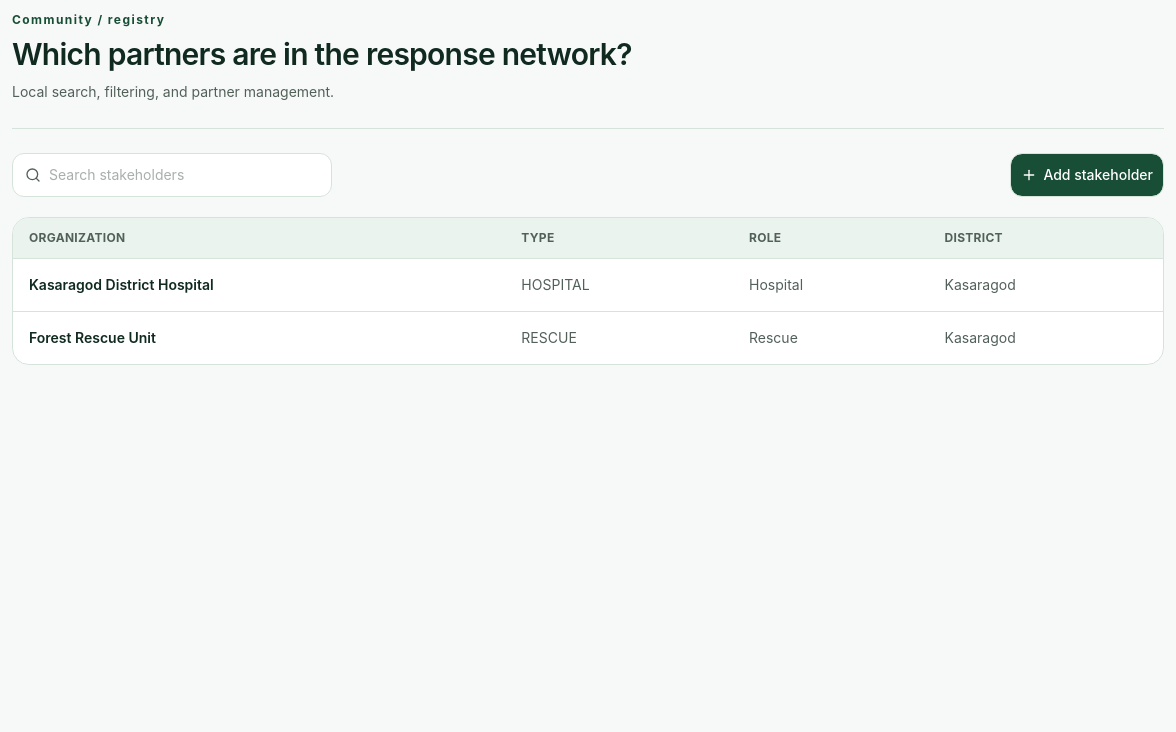
it: StakeholderWorkspace — live registry › adds a stakeholder through the inline form and refreshes the list
This screenshot has width=1176, height=732.
Check: the text "Kasaragod District Hospital" is shown, box [13,258,505,312]
Click the button "Add stakeholder" at [1087, 175], box [1010,153,1164,197]
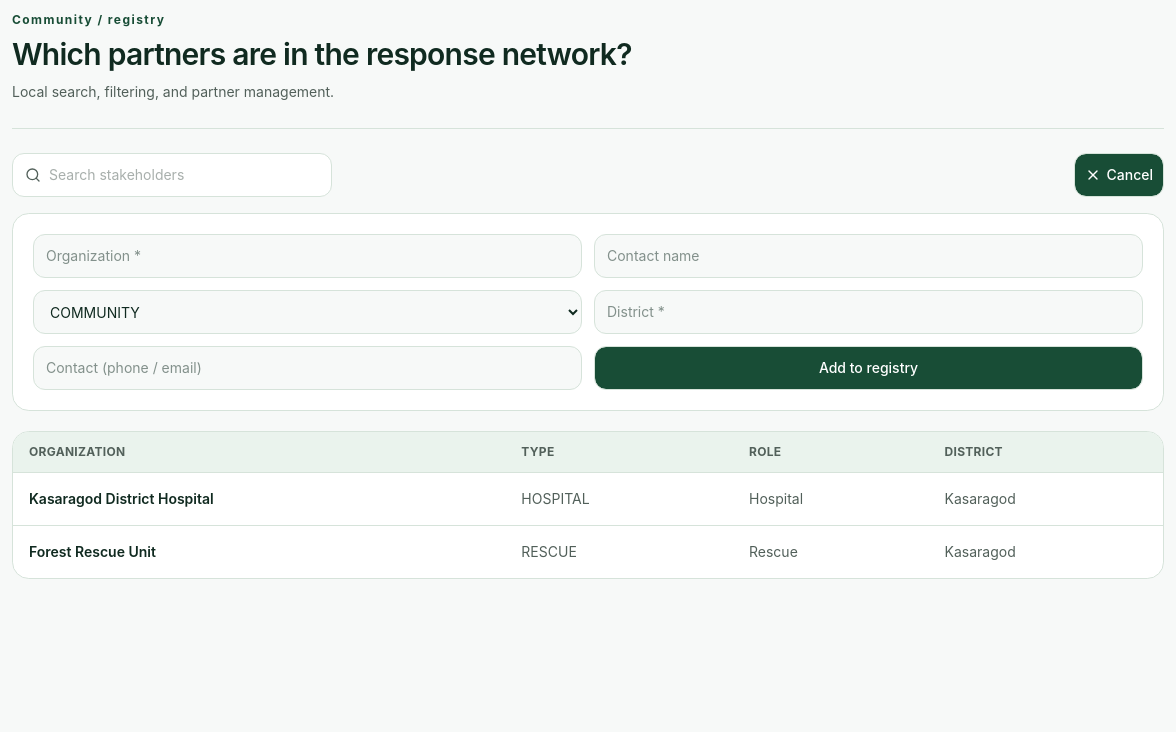
Type "MSRIT NSS Unit" into the field labelled "Organization" at [308, 256], box [33,234,582,278]
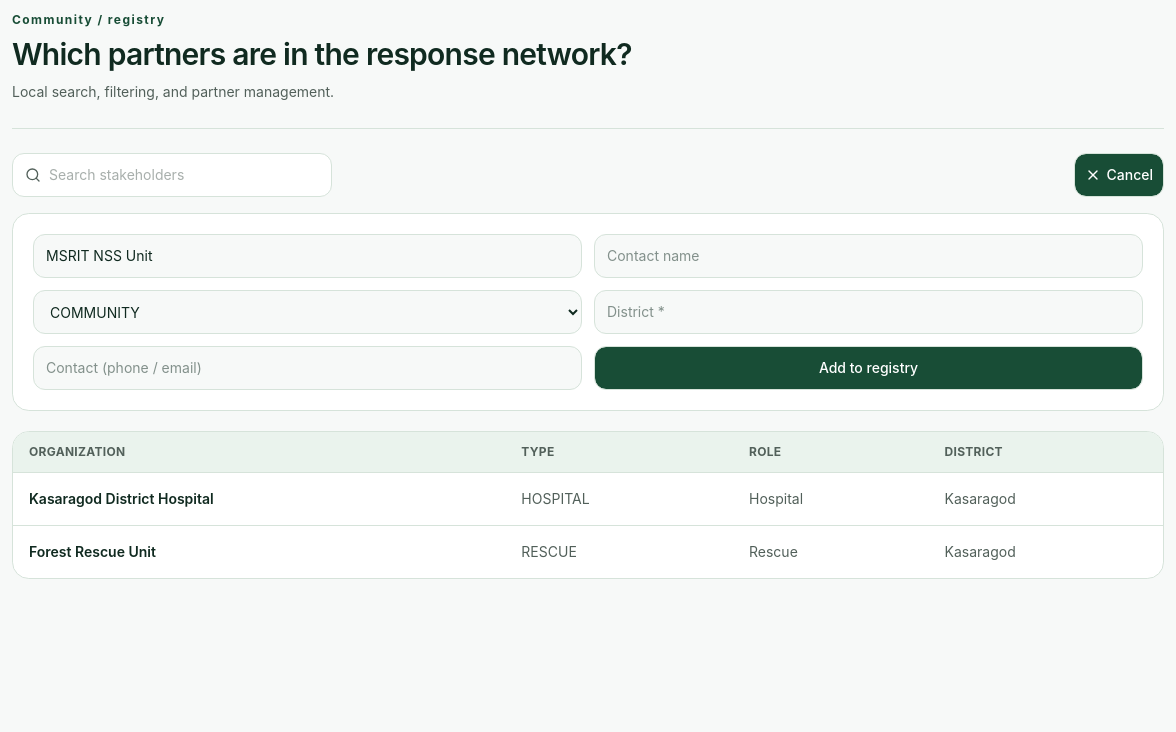
Type "Bengaluru" into the field labelled "District" at [868, 312], box [594,290,1143,334]
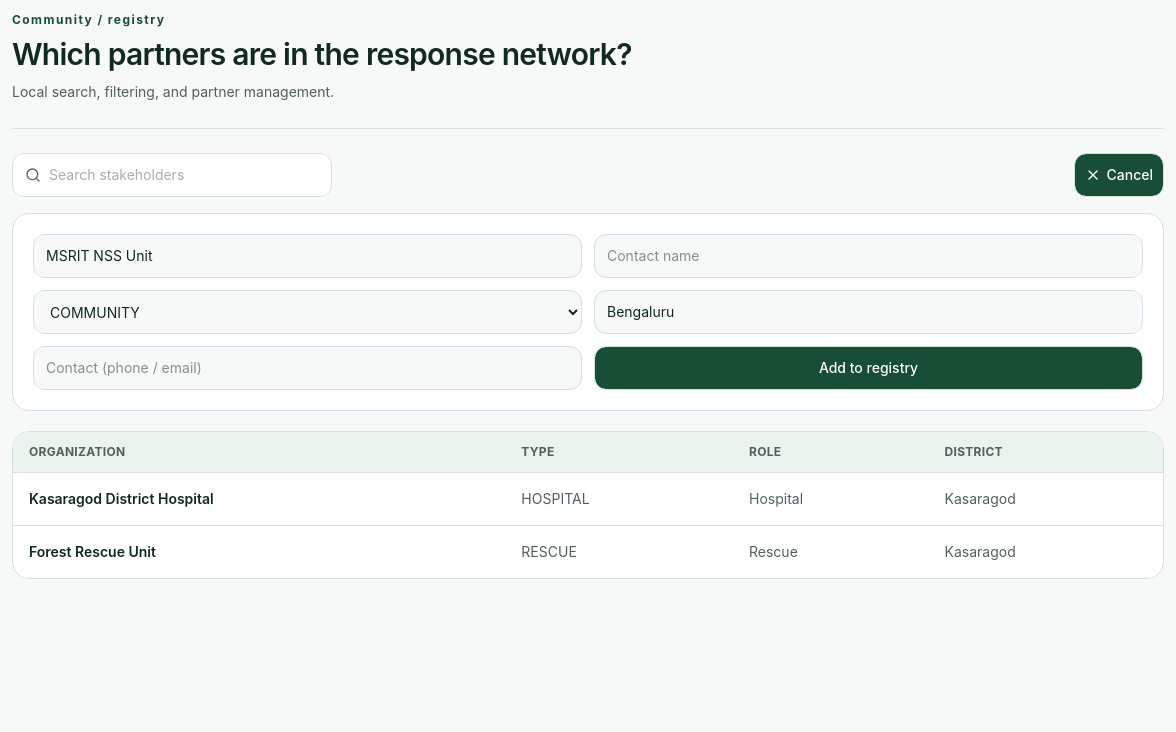
Click the button "Add to registry" at [868, 368], box [594,346,1143,390]
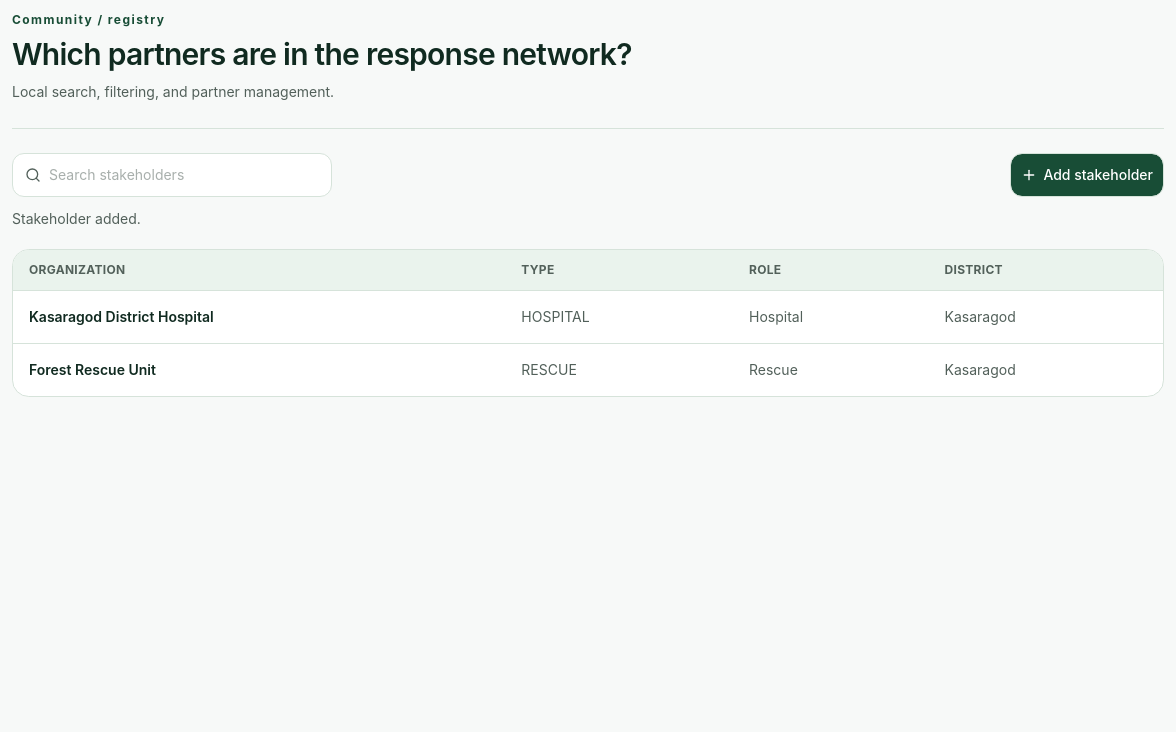
Check: the text "Stakeholder added." is shown, box [12,210,141,227]
